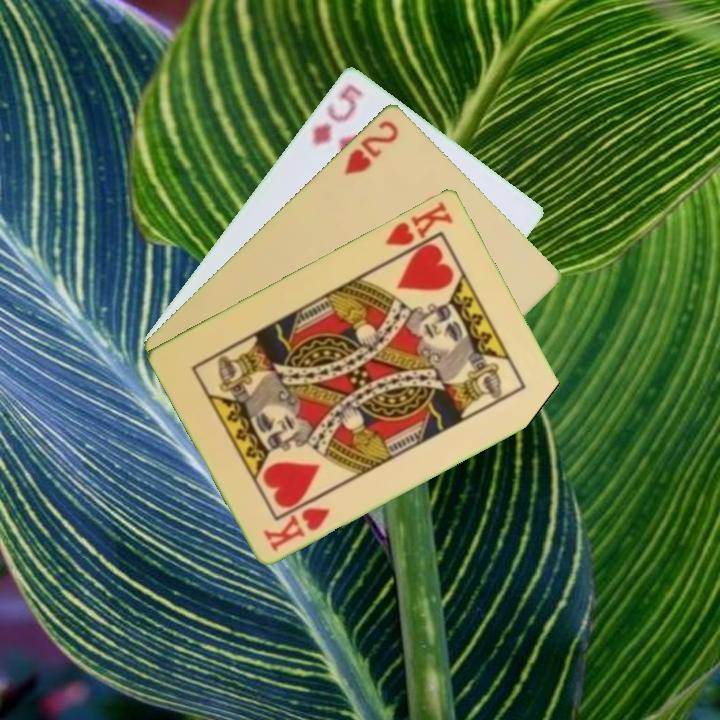2h: (340, 116, 401, 178)
5d: (308, 80, 367, 149)
Kh: (381, 197, 457, 262), (259, 503, 334, 555)
